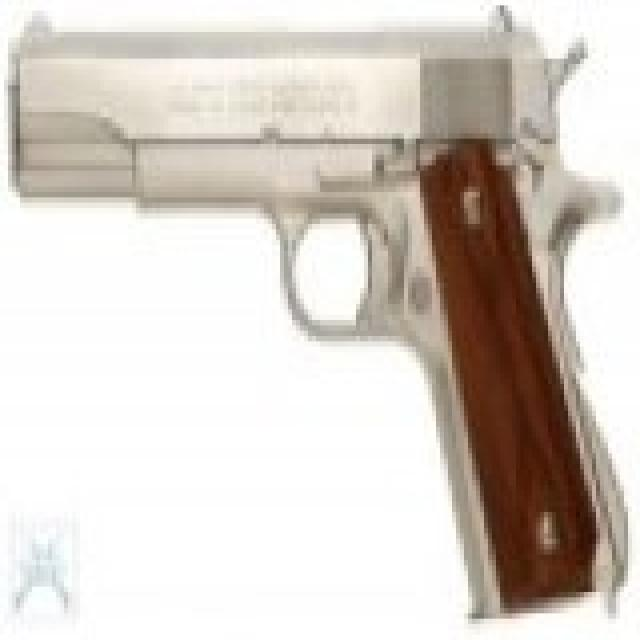gun: (4, 11, 624, 613)
